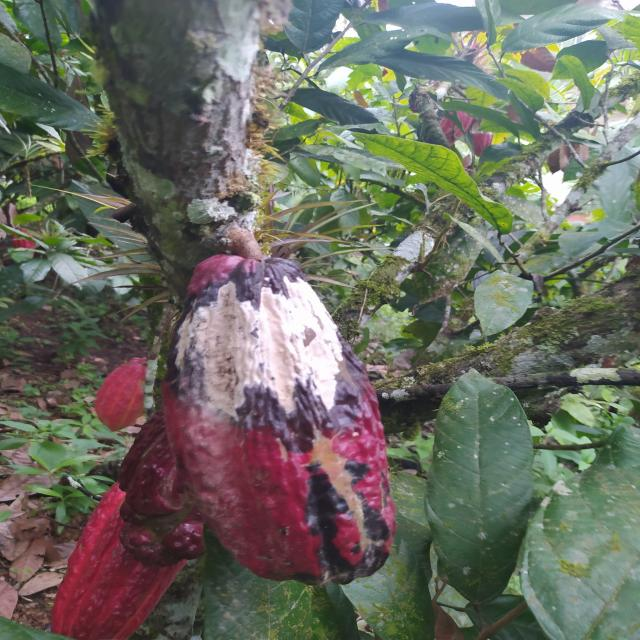Monilia: (164, 254, 395, 590)
Sana: (49, 482, 185, 640), (117, 403, 211, 564), (92, 357, 147, 430)
